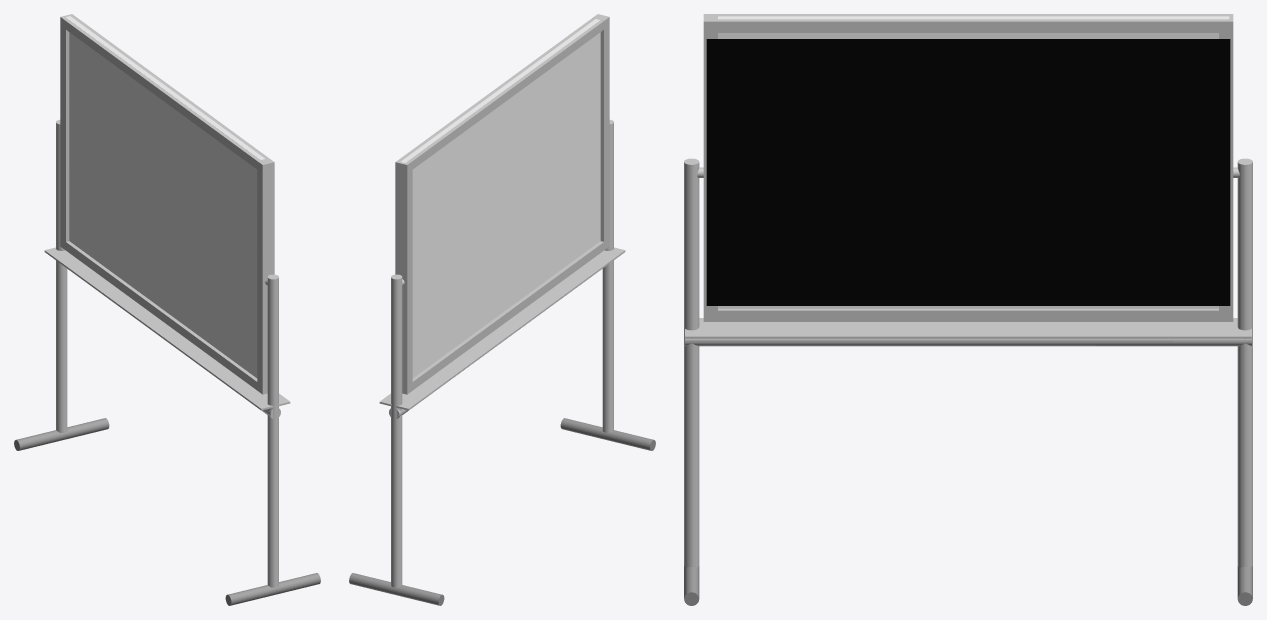
Rendered from heistWhiteboard.fbx.
3 renders of one model, left to right at view 1: azimuth 30°, elevation 25°; view 2: azimuth 150°, elevation 25°; view 3: azimuth 270°, elevation 25°, orthographic. The views are drawn at different scales.
Parts seen in each view (by area): view 1: Backboard, Sideboards (Top and Bottom), Sideboards (Left and Right), Marker Holder, Side Stands.001, Side Stands, Bottom Stands; view 2: Backboard, Sideboards (Top and Bottom), Sideboards (Left and Right), Marker Holder, Side Stands, Side Stands.001, Bottom Stands; view 3: instruct-plane, Sideboards (Top and Bottom), Marker Holder, Backboard, Side Stands, Side Stands.001, Undercarraige, Sideboards (Left and Right), Bottom Stands.
Part boxes in pixels (x1=…): Backboard: x1=66, y1=16, x2=264, y2=378; Sideboards (Top and Bottom): x1=65, y1=18, x2=268, y2=390; Sideboards (Left and Right): x1=60, y1=14, x2=274, y2=394; Marker Holder: x1=44, y1=247, x2=290, y2=410; Side Stands.001: x1=267, y1=274, x2=278, y2=587; Side Stands: x1=56, y1=120, x2=67, y2=432; Bottom Stands: x1=14, y1=418, x2=320, y2=605; Backboard: x1=401, y1=19, x2=600, y2=378; Sideboards (Top and Bottom): x1=401, y1=18, x2=604, y2=390; Sideboards (Left and Right): x1=395, y1=14, x2=609, y2=394; Marker Holder: x1=379, y1=247, x2=625, y2=410; Side Stands: x1=391, y1=274, x2=402, y2=587; Side Stands.001: x1=602, y1=120, x2=613, y2=432; Bottom Stands: x1=349, y1=418, x2=655, y2=605; instruct-plane: x1=706, y1=39, x2=1230, y2=305; Sideboards (Top and Bottom): x1=716, y1=14, x2=1220, y2=321; Marker Holder: x1=685, y1=318, x2=1251, y2=338; Backboard: x1=718, y1=16, x2=1229, y2=308; Side Stands: x1=1237, y1=158, x2=1252, y2=567; Side Stands.001: x1=684, y1=158, x2=699, y2=567; Undercarraige: x1=685, y1=338, x2=1251, y2=346; Sideboards (Left and Right): x1=703, y1=14, x2=1233, y2=321; Bottom Stands: x1=684, y1=565, x2=1252, y2=605.
Size of the model in its own units: 0.7453 by 3.41 by 3.14.
9 materials, 1 textured.
